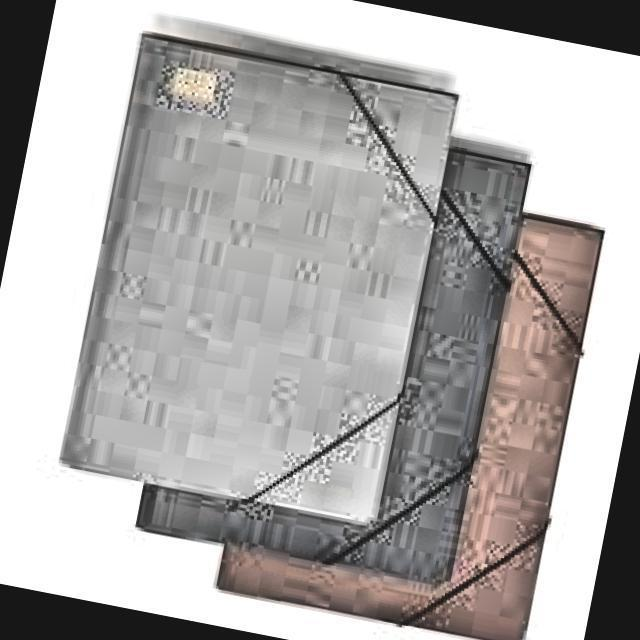cardboard: (54, 32, 462, 534), (130, 102, 534, 598), (211, 167, 605, 640)
